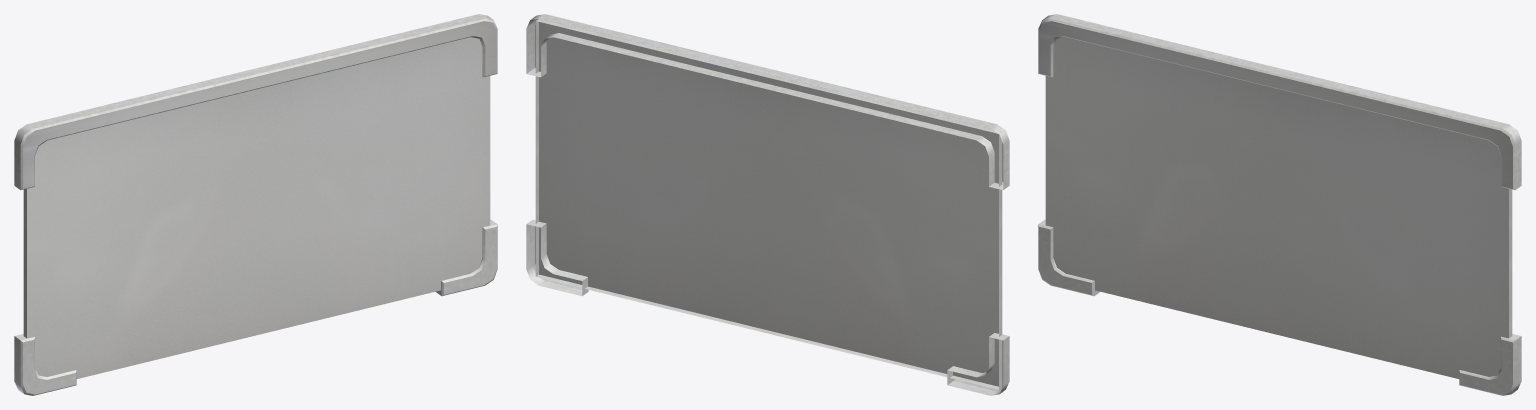
Rendered from Tele2.obj.
The picture shows the model from 3 angles, left to right: view 1: azimuth 30°, elevation 25°; view 2: azimuth 150°, elevation 25°; view 3: azimuth 330°, elevation 25°; orthographic projection.
Visible parts, largest first — view 1: Tele:PC_ScenepolySurface7, Tele:polySurface3PC_Scene, Tele:PC_ScenepolySurface5, Tele:PC_ScenepolySurface9; view 2: Tele:PC_ScenepolySurface7, Tele:polySurface3PC_Scene, Tele:PC_ScenepolySurface9, Tele:PC_ScenepolySurface5; view 3: Tele:PC_ScenepolySurface7, Tele:polySurface3PC_Scene, Tele:PC_ScenepolySurface9, Tele:PC_ScenepolySurface5.
Part boxes in pixels (x1,y1,x2,y2): Tele:PC_ScenepolySurface7: (23,37,490,378); Tele:polySurface3PC_Scene: (14,14,497,190); Tele:PC_ScenepolySurface5: (14,334,76,395); Tele:PC_ScenepolySurface9: (435,219,497,296); Tele:PC_ScenepolySurface7: (535,18,1002,389); Tele:polySurface3PC_Scene: (526,14,1009,190); Tele:PC_ScenepolySurface9: (526,219,588,296); Tele:PC_ScenepolySurface5: (947,333,1009,395); Tele:PC_ScenepolySurface7: (1045,37,1512,378); Tele:polySurface3PC_Scene: (1038,14,1521,190); Tele:PC_ScenepolySurface9: (1459,334,1521,395); Tele:PC_ScenepolySurface5: (1038,219,1100,296).
Bounding box in the file's own units: 6.33 × 3.39 × 0.162.
Materials: 3 (2 with a texture image).
